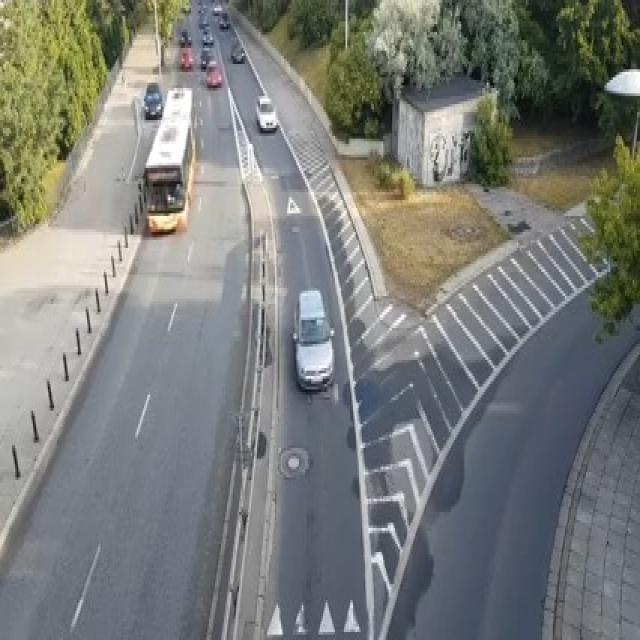bus: (143, 85, 194, 235)
car: (291, 288, 335, 389), (142, 80, 164, 117), (255, 96, 278, 131), (206, 59, 222, 88), (200, 46, 213, 70), (230, 43, 245, 61), (180, 48, 192, 69), (179, 27, 191, 45), (218, 10, 230, 27), (202, 30, 214, 46), (198, 19, 209, 29), (212, 3, 222, 13)
